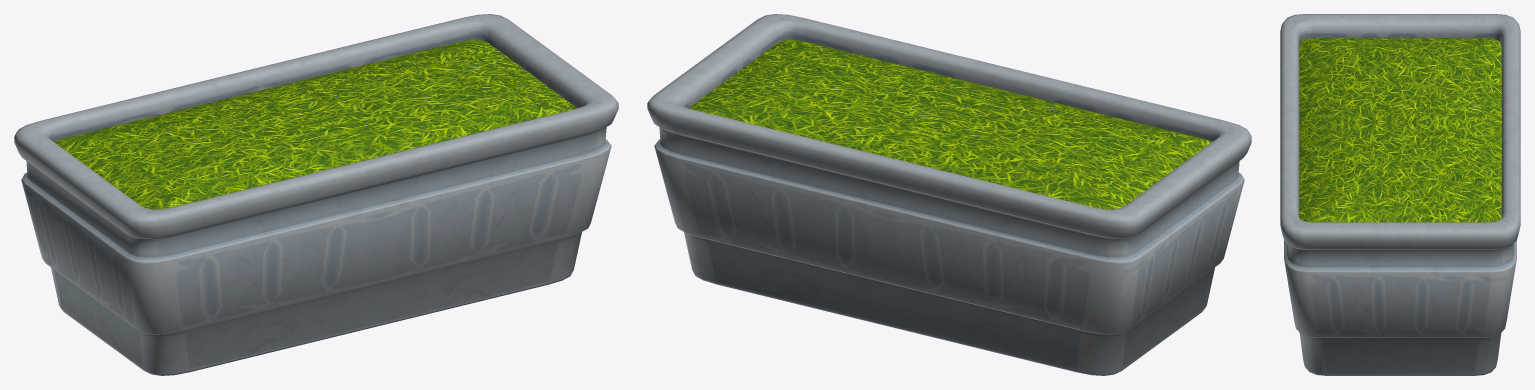
File: StreetPlanter01_4.FBX
The picture shows the model from 3 angles, left to right: view 1: azimuth 30°, elevation 25°; view 2: azimuth 150°, elevation 25°; view 3: azimuth 270°, elevation 25°; orthographic projection. The views are drawn at different scales.
Visible parts, largest first — view 1: StreetPlanter01_4; view 2: StreetPlanter01_4; view 3: StreetPlanter01_4.
Boxes of the visible parts, box(x1,y1,x2,y2) form: StreetPlanter01_4: box(14, 14, 618, 375); StreetPlanter01_4: box(647, 14, 1251, 375); StreetPlanter01_4: box(1280, 14, 1520, 375).
Size of what is drawn, in the model's own units: 1.91 by 0.6495 by 0.884.
